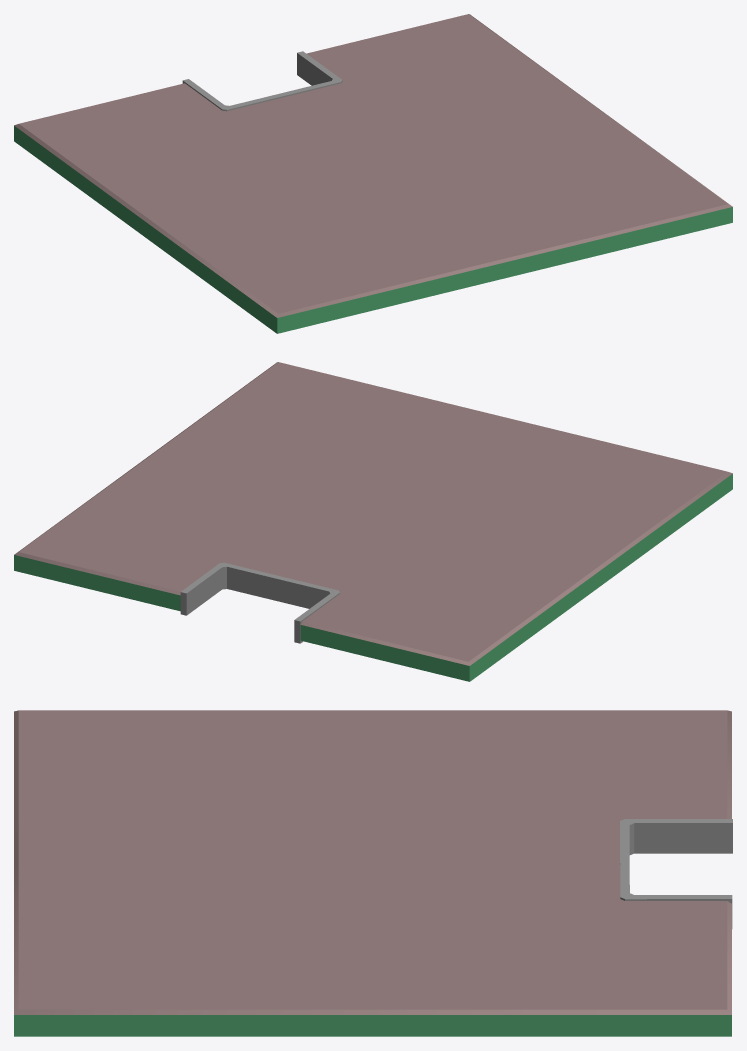
The model's file is sidewalk default 2.FBX.
The picture shows the model from 3 angles, top to bottom: view 1: azimuth 30°, elevation 25°; view 2: azimuth 150°, elevation 25°; view 3: azimuth 270°, elevation 25°; orthographic projection. The views are drawn at different scales.
Parts seen in each view (by area): view 1: Plane060; view 2: Plane060; view 3: Plane060.
Part boxes in pixels (x1,y1,x2,y2): Plane060: (14,14,732,333); Plane060: (14,362,732,681); Plane060: (14,710,732,1036).
Size of the model in its own units: 3 by 0.14 by 3.
